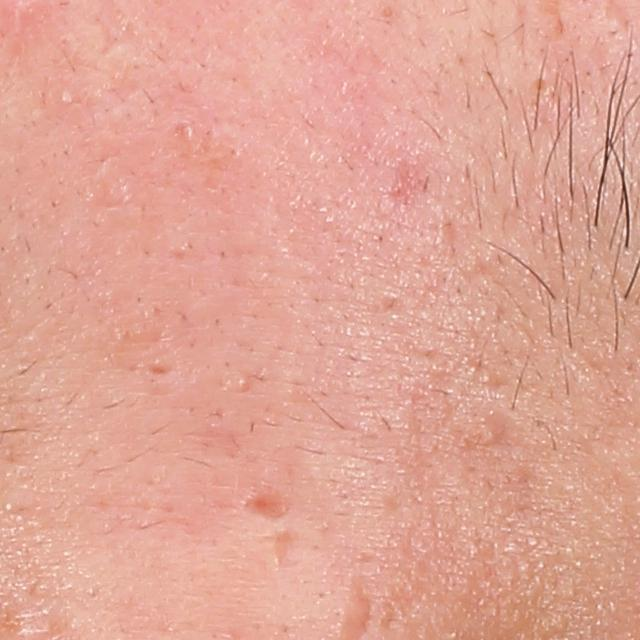atrophic_scar: (463, 409, 520, 456), (239, 489, 304, 524), (271, 528, 293, 576), (147, 363, 175, 377)
comedo: (380, 5, 395, 20)
